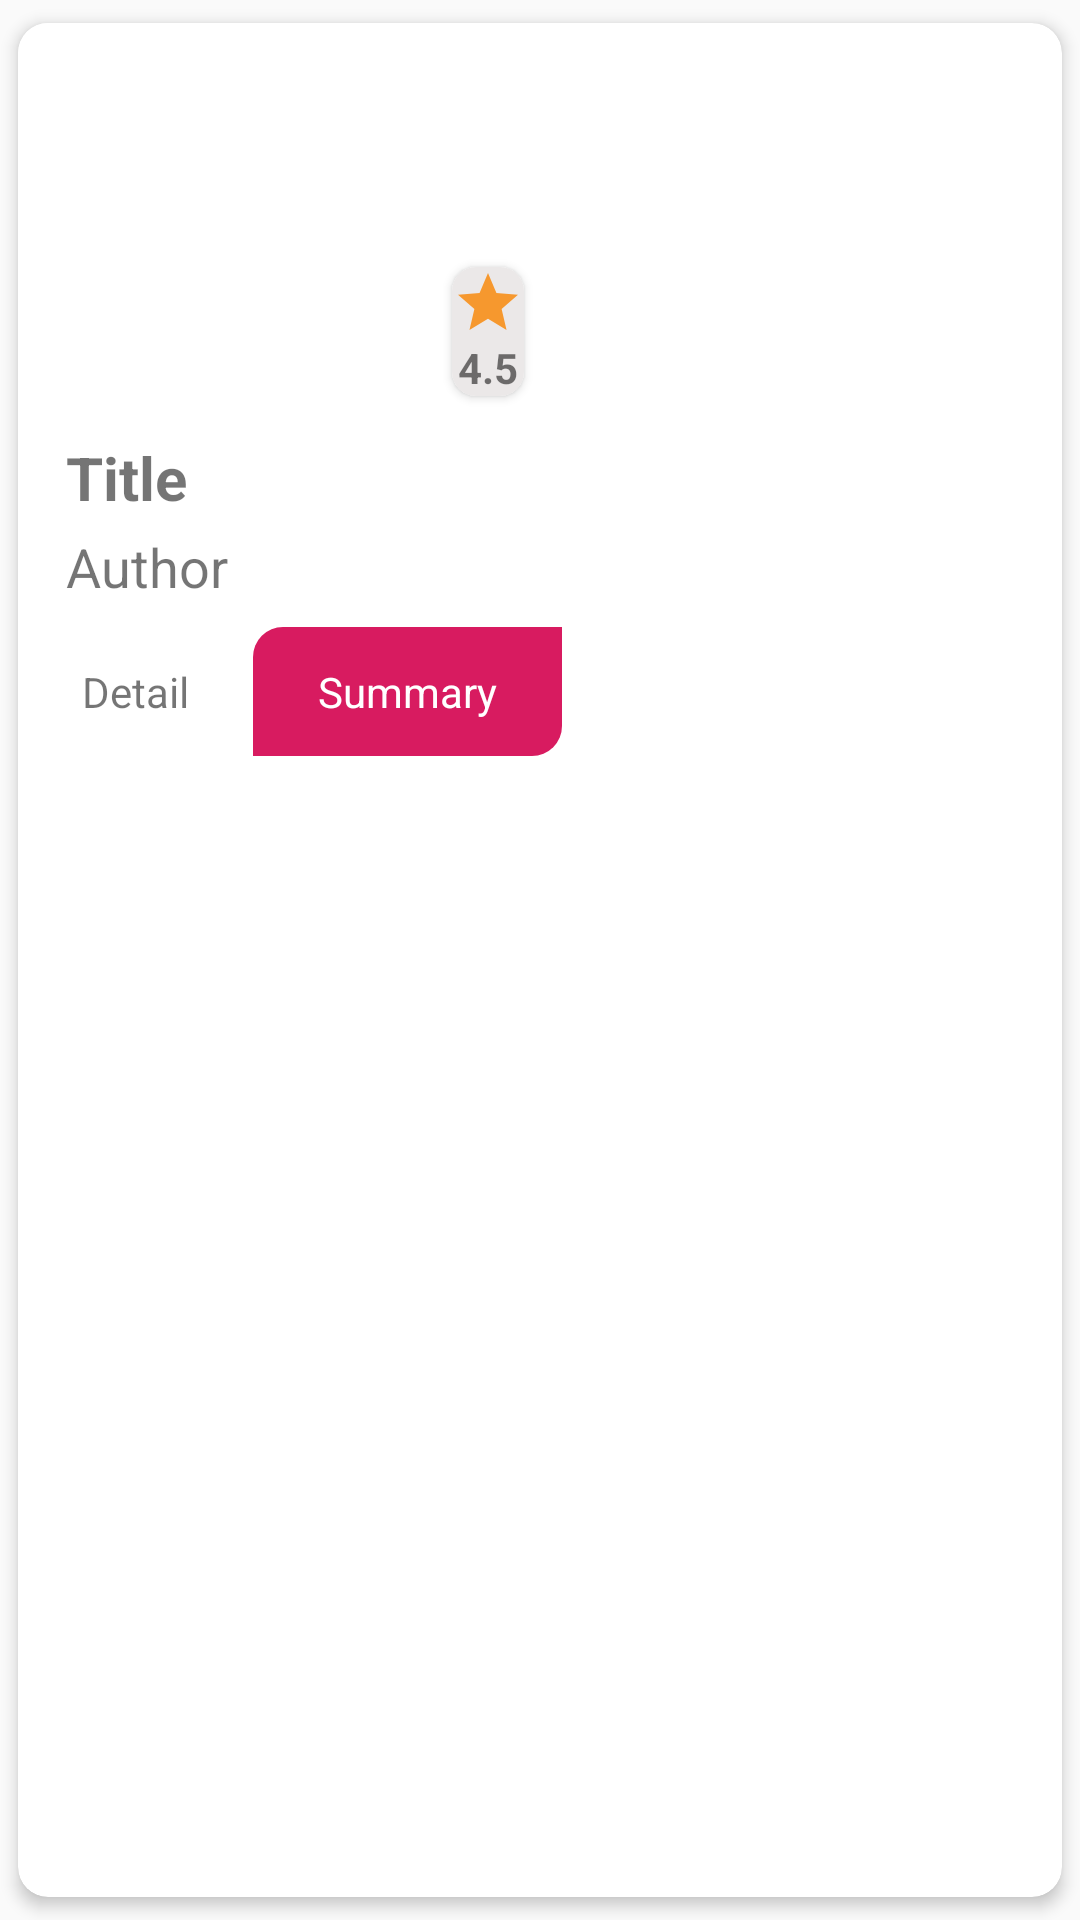

Named icons in this screenshot (1080w x 1920h) and their bounding boxes, (x1, y1, x2, y2):
star: (458, 273, 518, 330)
